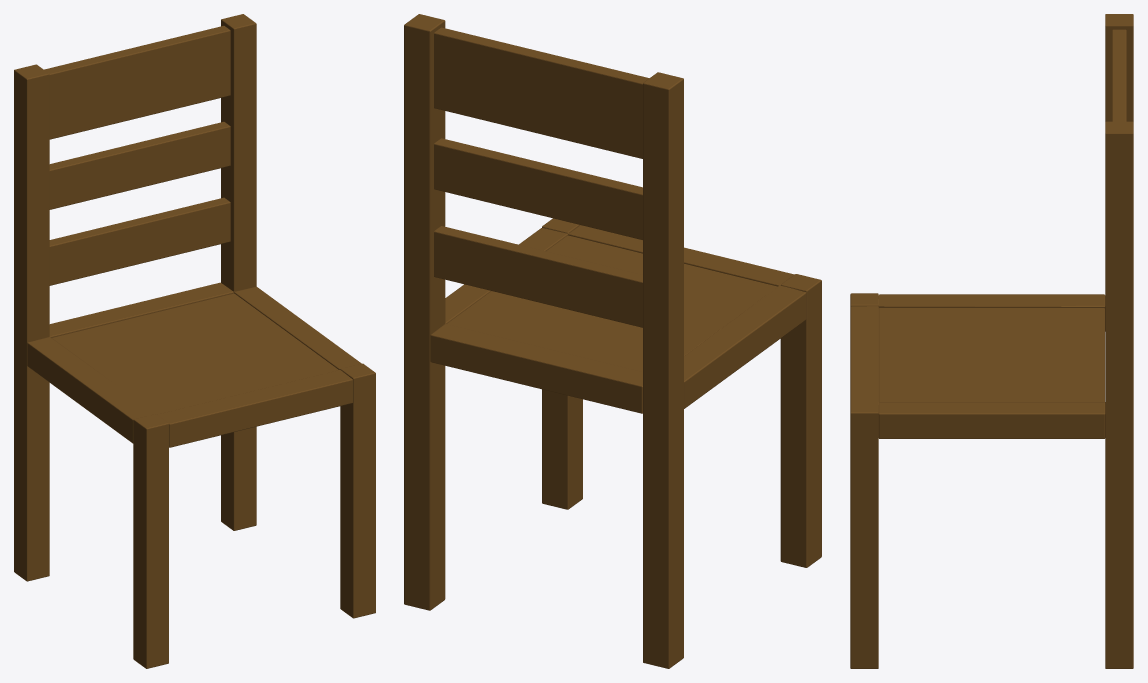
File: SillaBiblioteca.fbx
The picture shows the model from 3 angles, left to right: view 1: azimuth 30°, elevation 25°; view 2: azimuth 150°, elevation 25°; view 3: azimuth 270°, elevation 25°; orthographic projection. The views are drawn at different scales.
Parts seen in each view (by area): view 1: SillaBiblioteca; view 2: SillaBiblioteca; view 3: SillaBiblioteca.
Part boxes in pixels (<box>): SillaBiblioteca: <box>14,14,375,668</box>; SillaBiblioteca: <box>404,14,821,668</box>; SillaBiblioteca: <box>850,14,1133,668</box>.
Size of the model in its own units: 134 by 280 by 134.
